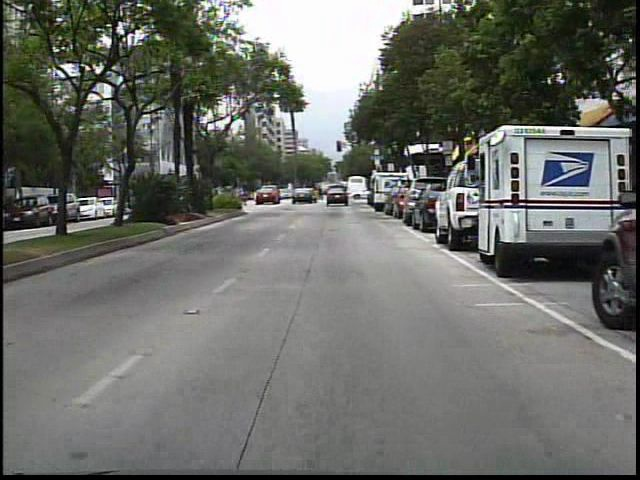person: (304, 181, 320, 206), (317, 184, 326, 203)
